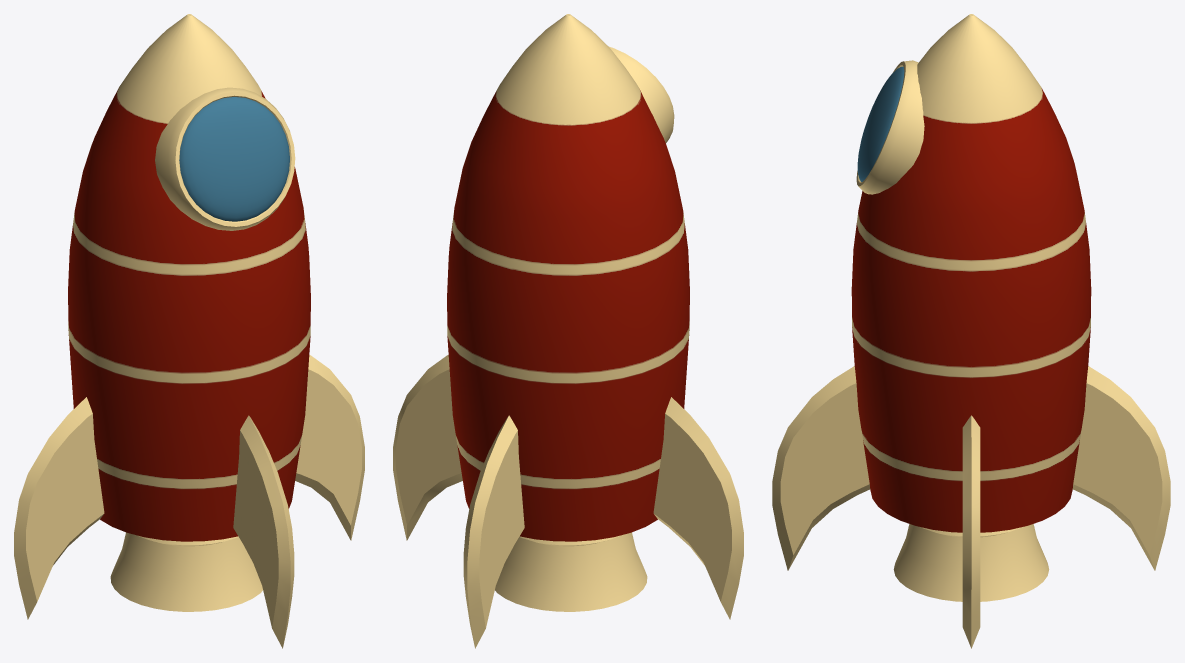
File: red_big_space_ship.glb
The picture shows the model from 3 angles, left to right: view 1: azimuth 30°, elevation 25°; view 2: azimuth 150°, elevation 25°; view 3: azimuth 270°, elevation 25°; orthographic projection.
Parts seen in each view (by area): view 1: body_low_0; view 2: body_low_0; view 3: body_low_0.
Boxes of the visible parts, left/top/right/bottom form: body_low_0: left=14, top=14, right=364, bottom=648; body_low_0: left=393, top=14, right=743, bottom=648; body_low_0: left=772, top=14, right=1170, bottom=648.
Size of the model in its own units: 1.9 by 2.92 by 1.9.
1 material, 1 textured.
